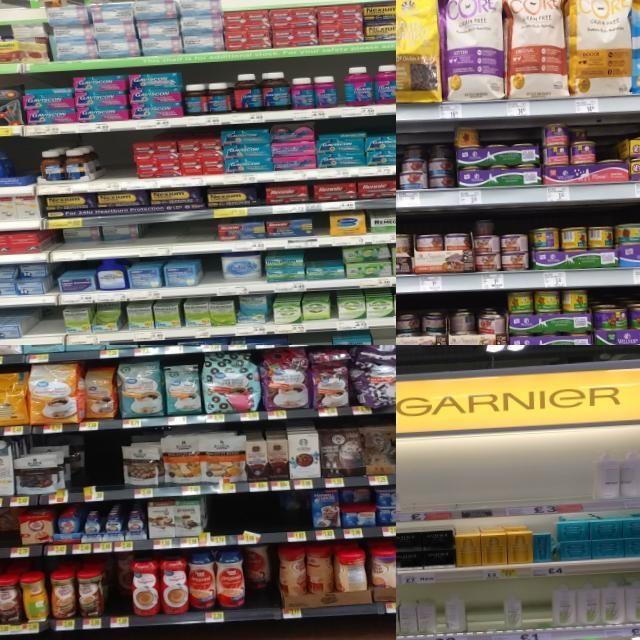Imprecise: (233, 544, 280, 616), (100, 552, 139, 618), (406, 141, 452, 187), (55, 226, 143, 250), (339, 486, 379, 528), (570, 118, 596, 179), (474, 216, 498, 270), (0, 509, 20, 547)
